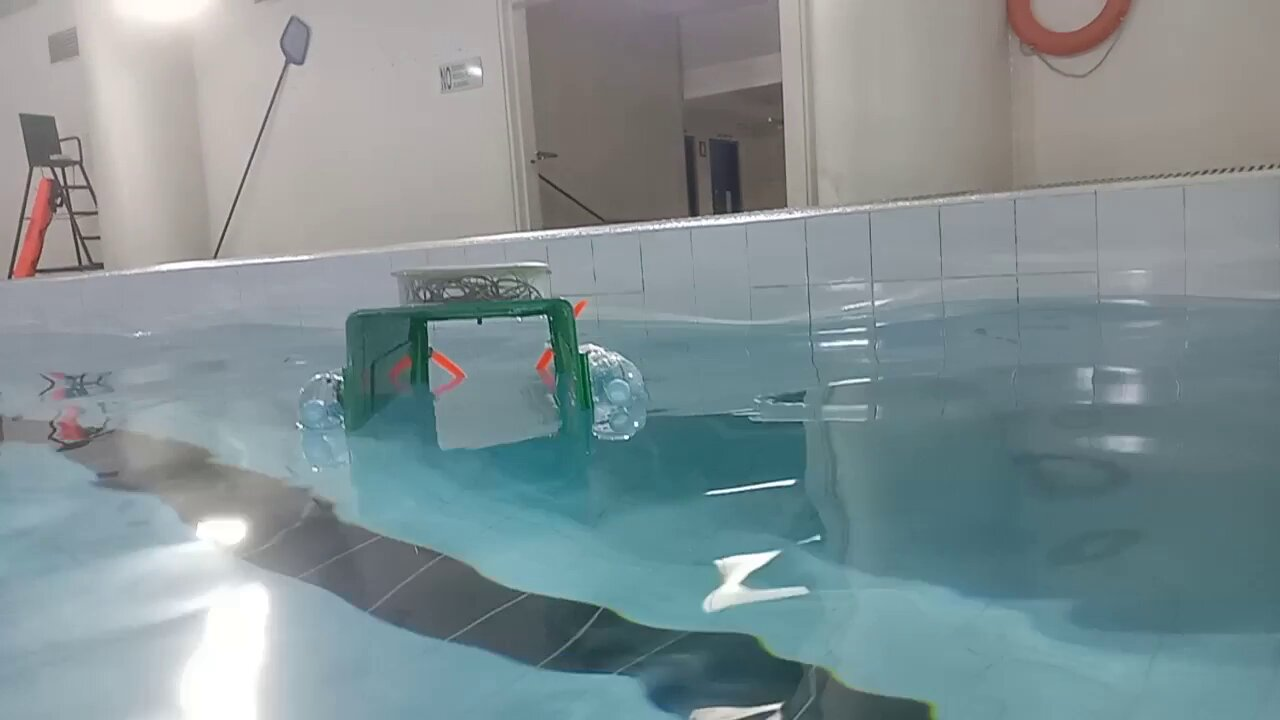drone: (294, 261, 652, 419)
